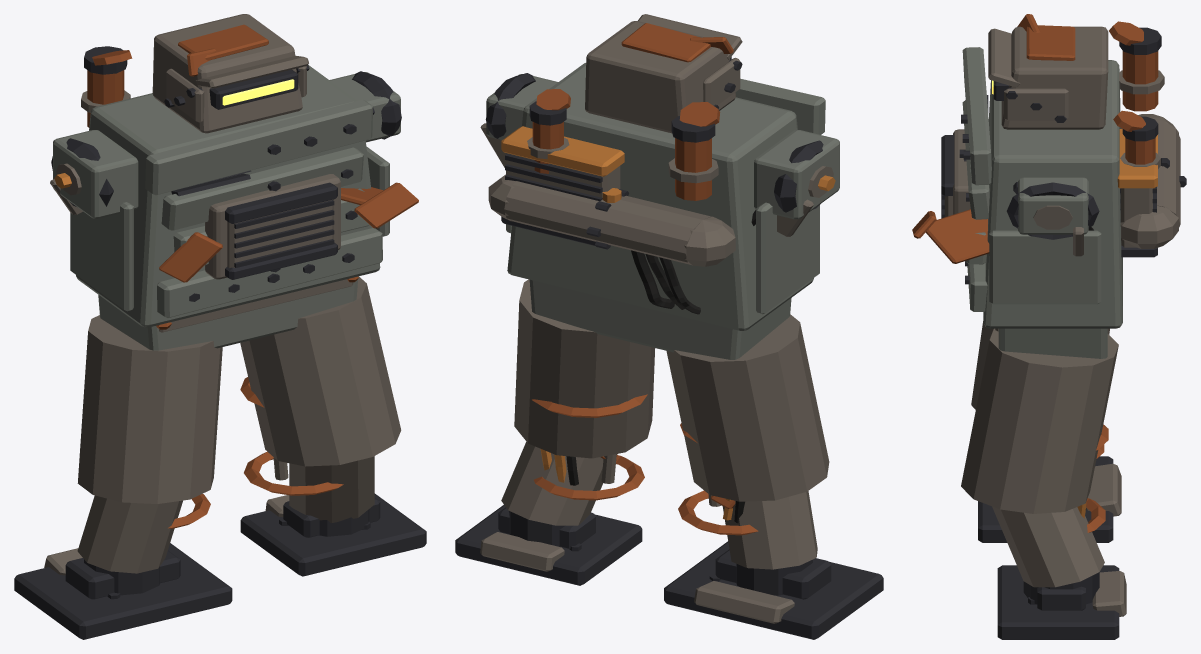
Rendered from ch_citadel.glb.
3 views of the same model, side by side, from view 1: azimuth 30°, elevation 25°; view 2: azimuth 150°, elevation 25°; view 3: azimuth 270°, elevation 25° (orthographic). The views are drawn at different scales.
Parts seen in each view (by area): view 1: ch_citadel, limb_leg_l, limb_leg_r; view 2: ch_citadel, limb_leg_l, limb_leg_r; view 3: ch_citadel, limb_leg_r, limb_leg_l.
Part boxes in pixels (x1,y1,x2,y2): ch_citadel: [50, 14, 418, 350]; limb_leg_l: [14, 315, 232, 639]; limb_leg_r: [240, 276, 426, 576]; ch_citadel: [480, 14, 839, 359]; limb_leg_l: [664, 314, 883, 639]; limb_leg_r: [455, 279, 655, 585]; ch_citadel: [912, 14, 1186, 358]; limb_leg_r: [961, 328, 1126, 639]; limb_leg_l: [971, 321, 1121, 542].
Size of the model in its own units: 0.5021 by 0.7204 by 0.3431.
